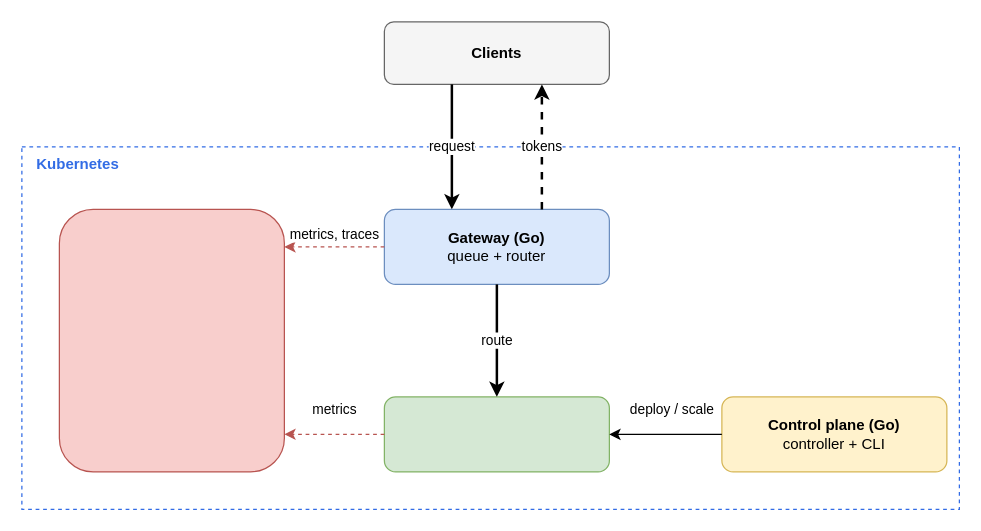
This 981x531 diagram has some shape labels left out. The centre of each missing label's shape, as x and y in pixels:
"Observability Prometheus, Grafana, OpenTelemetry" belongs at point 171,340.
"vLLM replicas" belongs at point 496,434.
